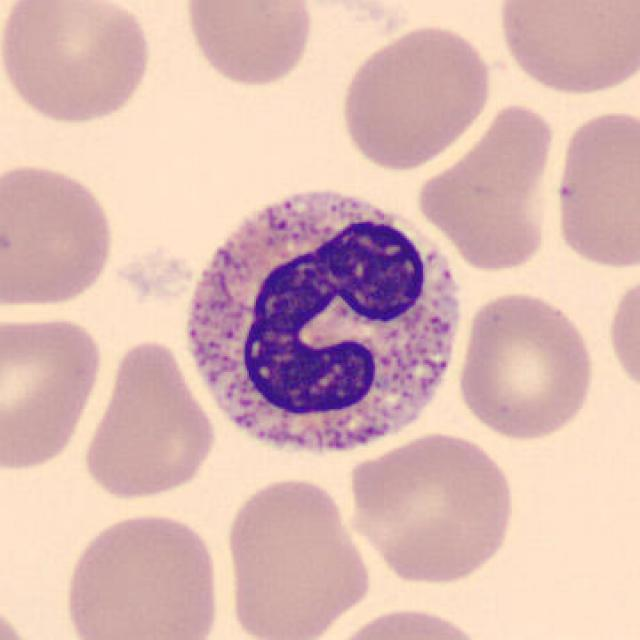Neutrophil: (174, 175, 475, 474)
RBC: (343, 429, 519, 587), (218, 472, 375, 640), (412, 108, 565, 278), (336, 21, 496, 173), (78, 335, 219, 504), (453, 288, 599, 444), (58, 508, 225, 640), (0, 0, 156, 128), (0, 159, 121, 314), (0, 309, 105, 474), (547, 103, 640, 273), (491, 0, 638, 99), (180, 0, 318, 90), (318, 603, 491, 640), (604, 268, 640, 402)
